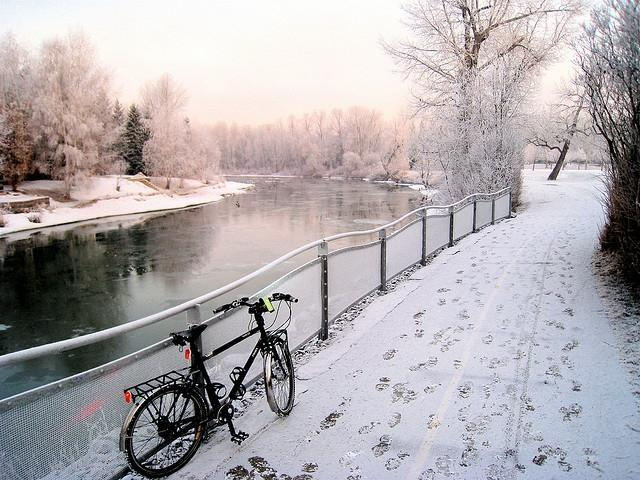bicycle: (120, 293, 300, 478)
